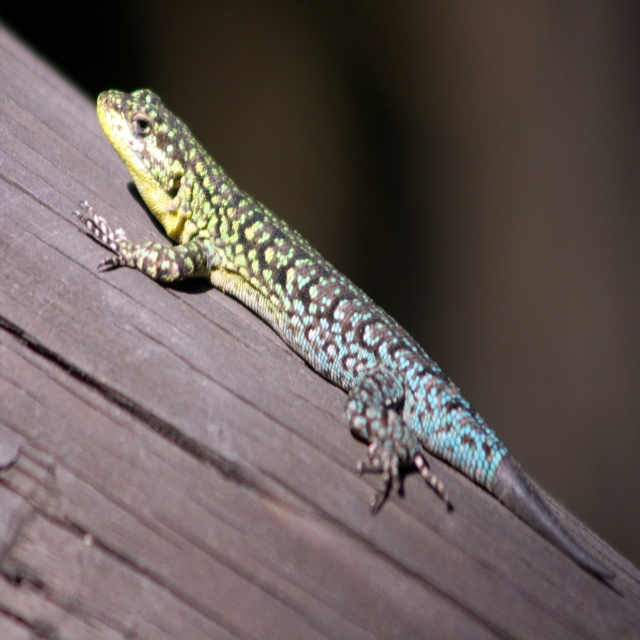Lizard: (101, 91, 612, 578)
